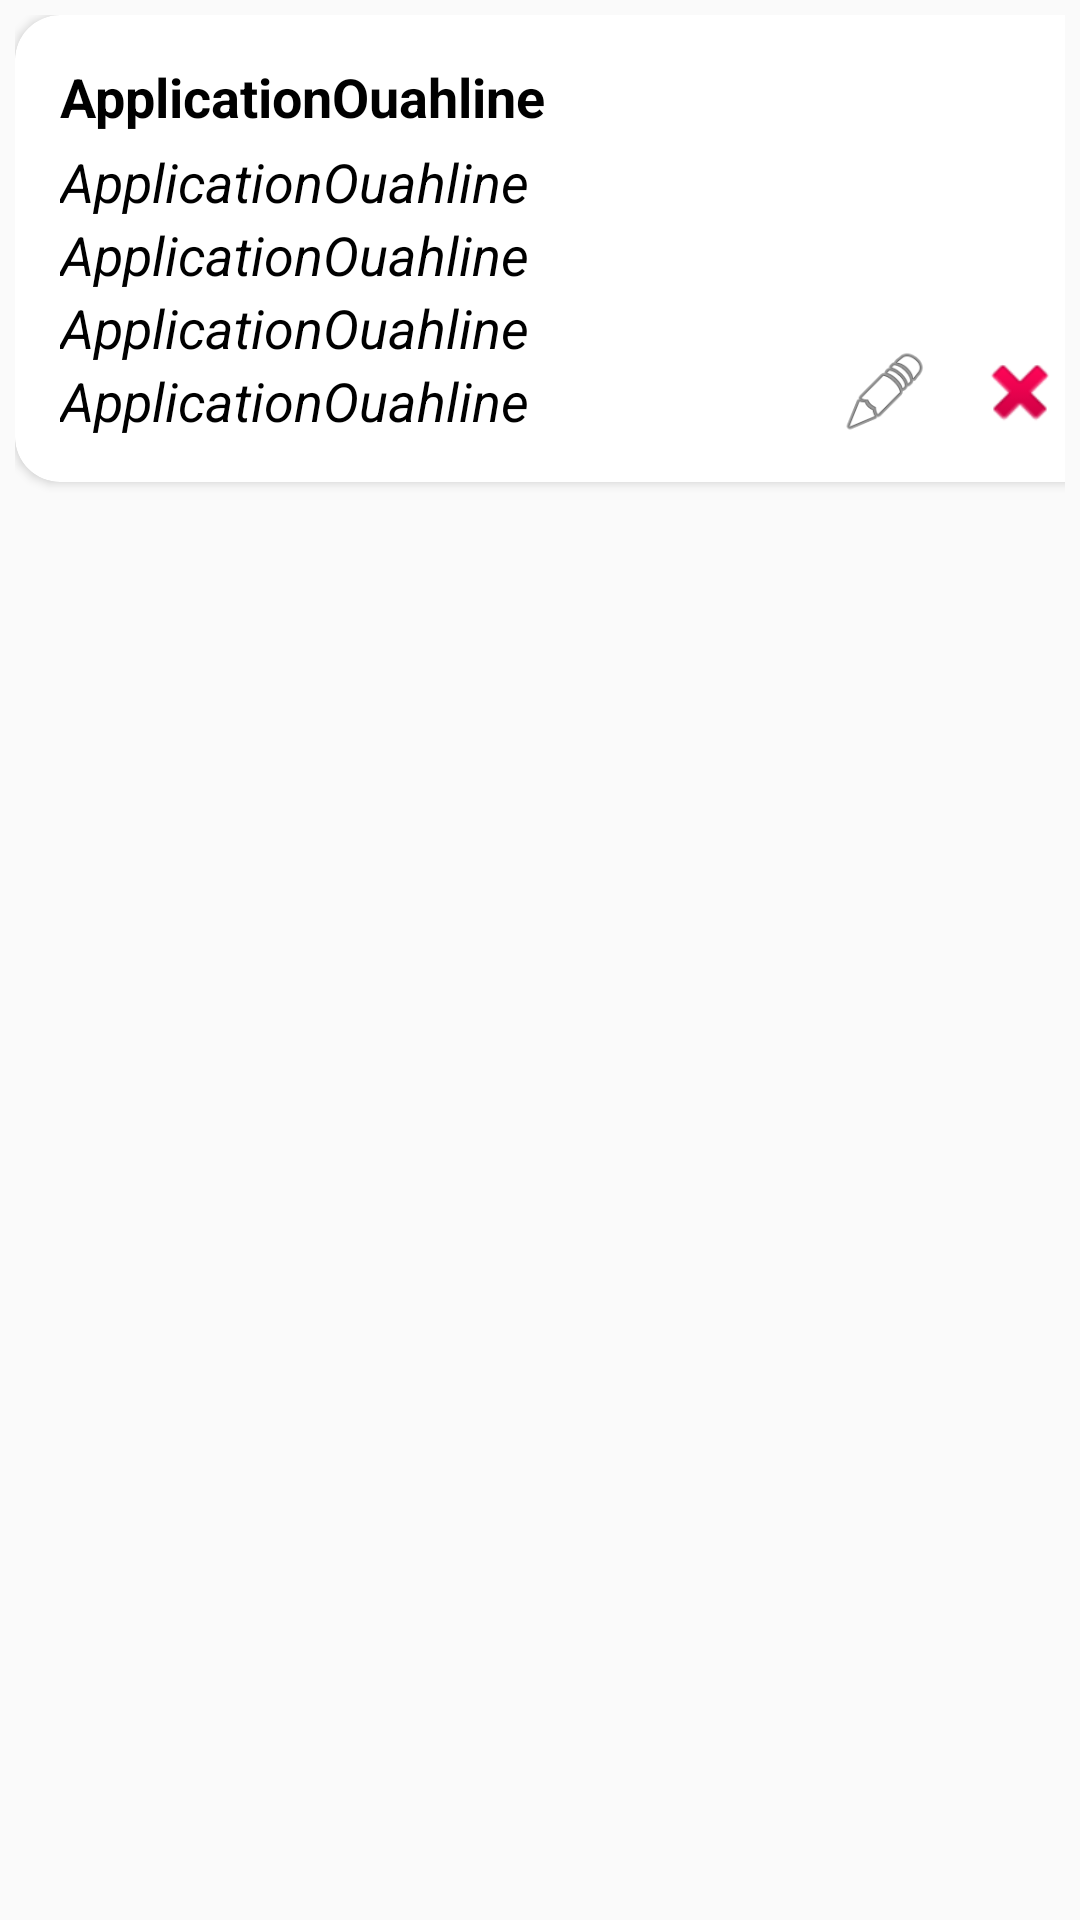

Screen size 1080w x 1920h. Icon name, then its center in pixels as point (x, y):
delete: point (1020, 392)
edit: point (884, 391)
